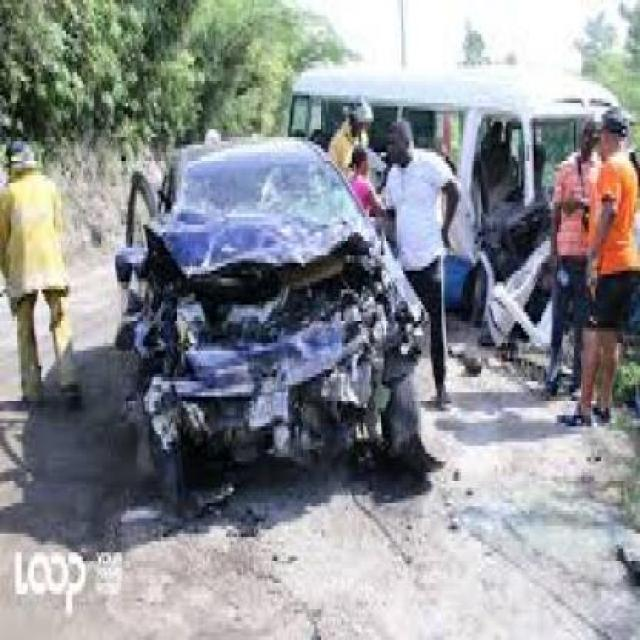accident: (100, 100, 451, 534)
